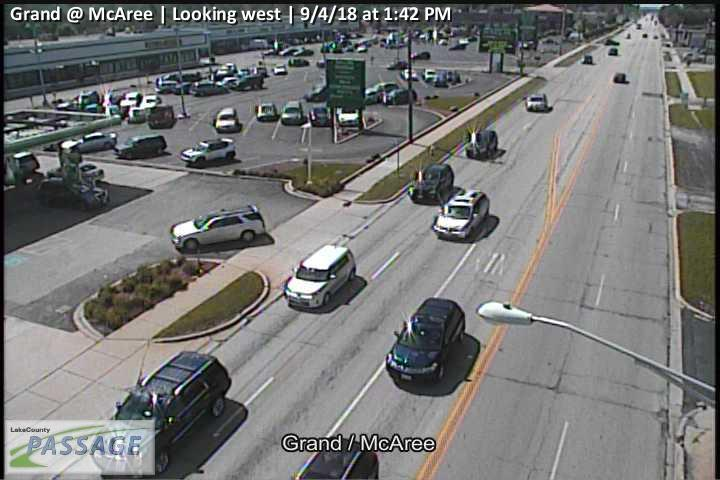SUV: (91, 350, 232, 477), (386, 296, 466, 382), (282, 243, 357, 310), (171, 204, 267, 252), (286, 437, 380, 480), (432, 189, 491, 240), (180, 138, 236, 166), (113, 133, 168, 158)
Sedan: (406, 163, 453, 203), (61, 131, 117, 154), (465, 128, 497, 158), (145, 105, 175, 128), (216, 107, 239, 132), (190, 81, 227, 95), (280, 102, 302, 123), (387, 88, 416, 103), (524, 93, 547, 111), (338, 108, 358, 126), (310, 107, 328, 125), (257, 103, 276, 119), (290, 58, 310, 67), (272, 63, 288, 74), (613, 72, 625, 83), (583, 55, 593, 64), (609, 48, 618, 56)
